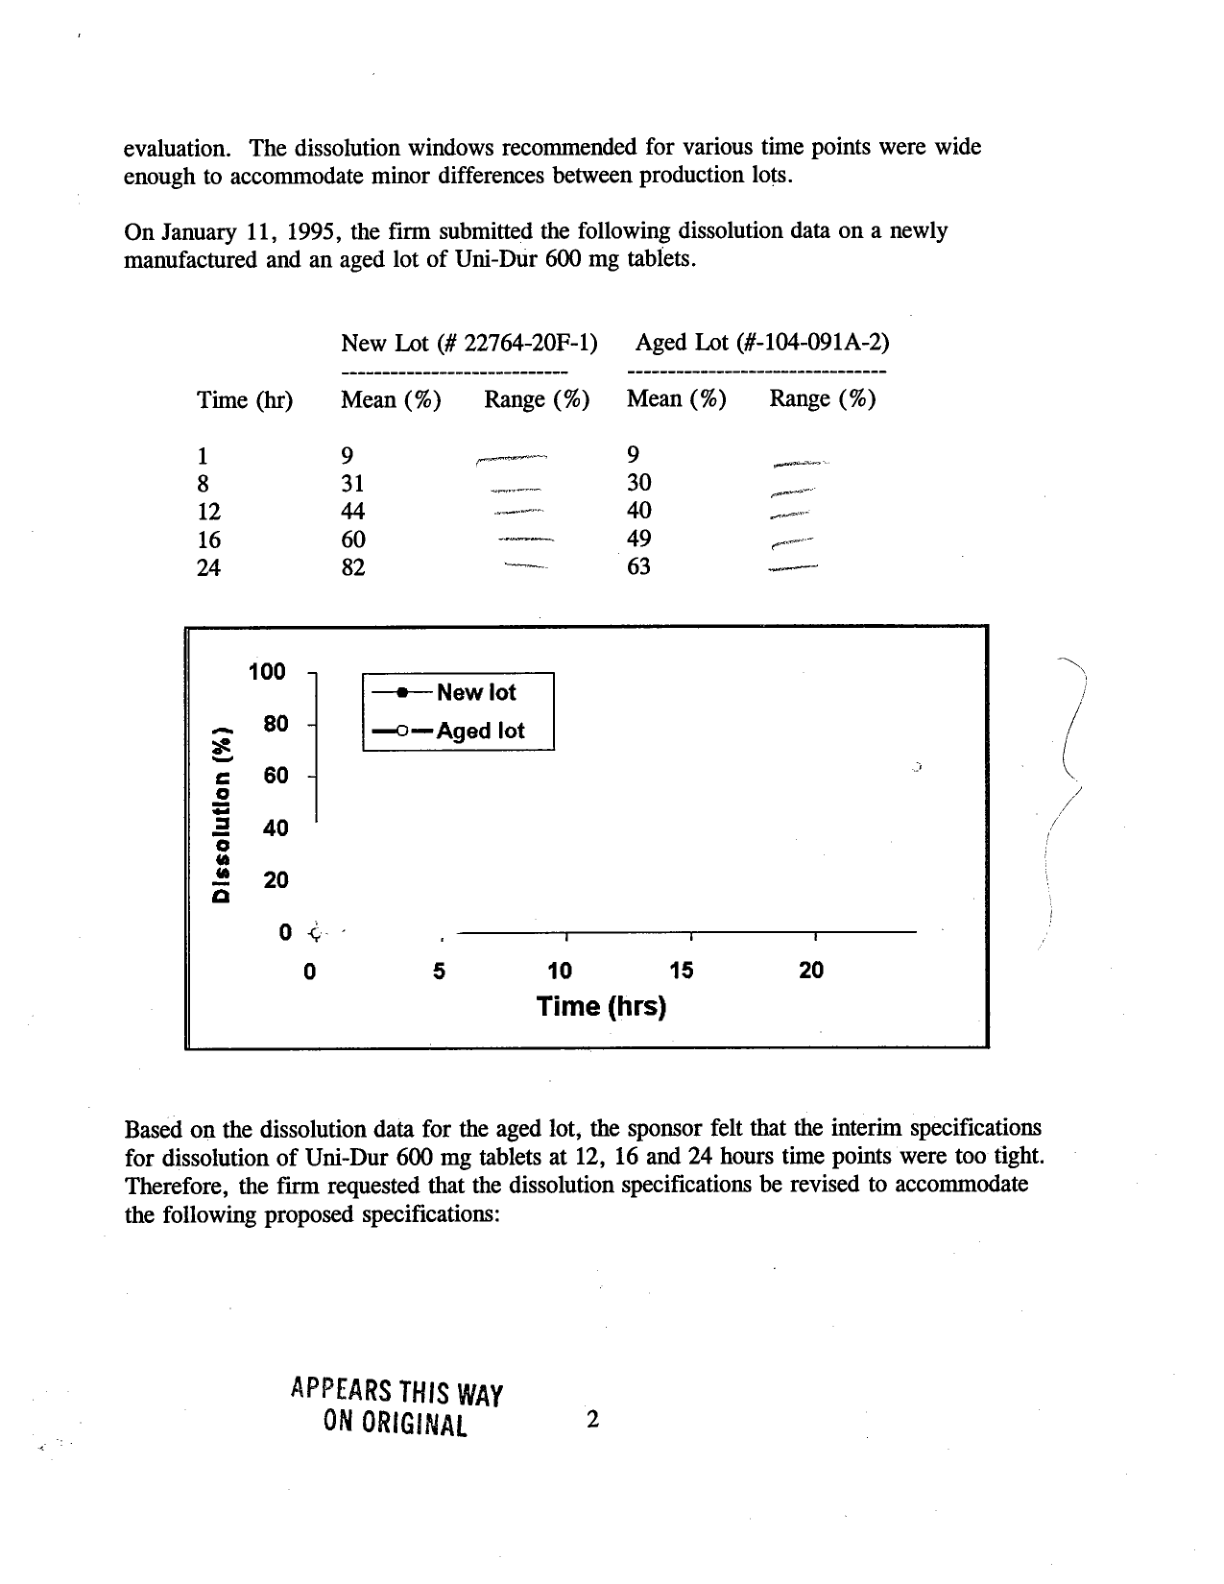nolines: (193, 332, 892, 579)
